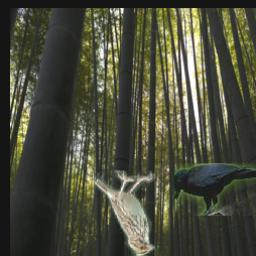Crow: (174, 163, 256, 216)
Sparrow: (93, 171, 154, 256)
